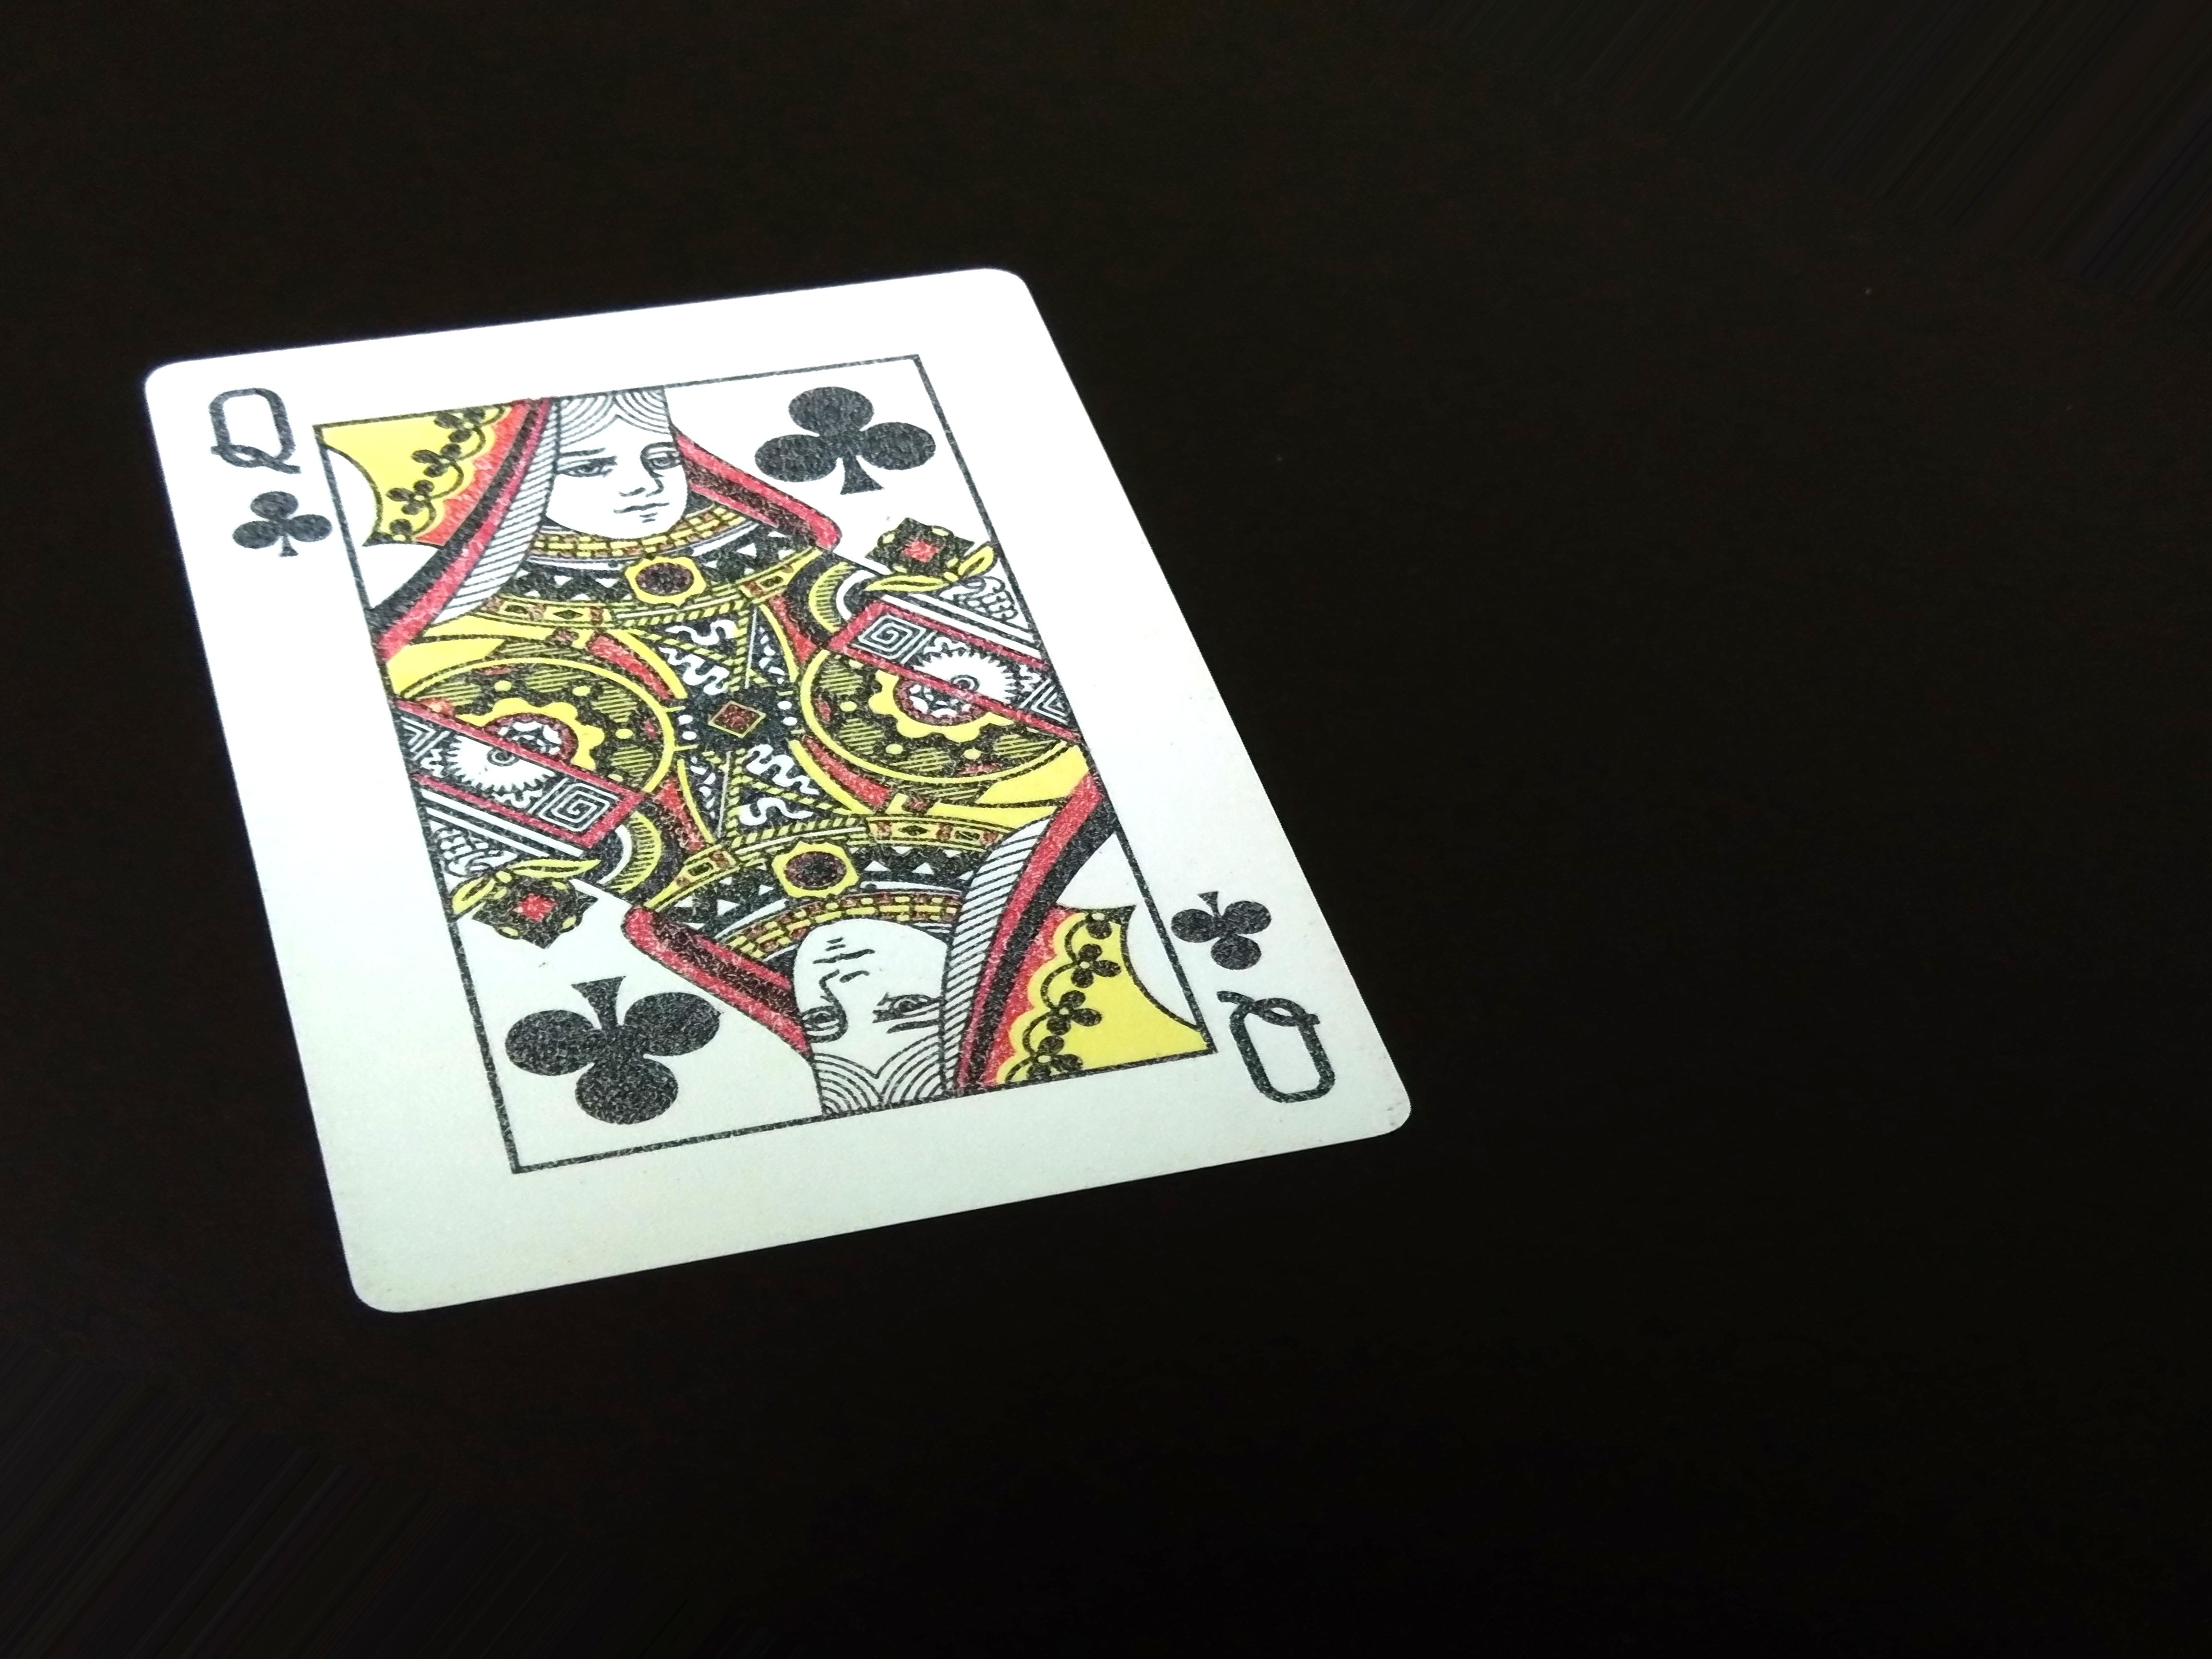QC: (183, 364, 338, 572)
